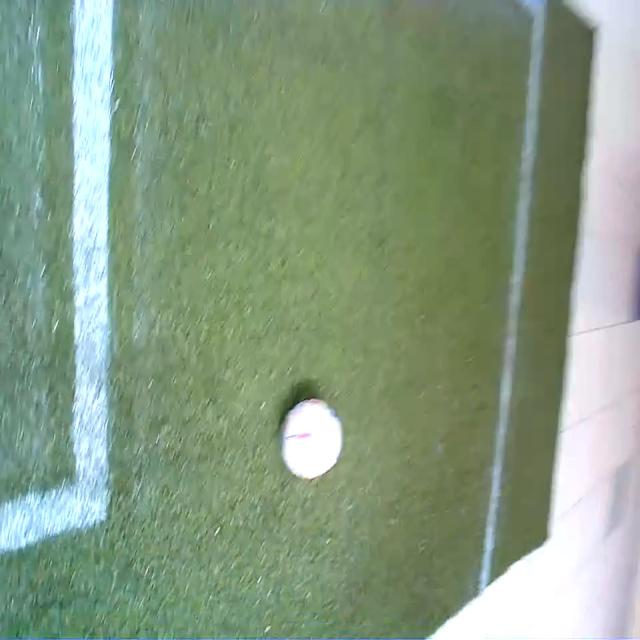ball: (282, 396, 342, 478)
